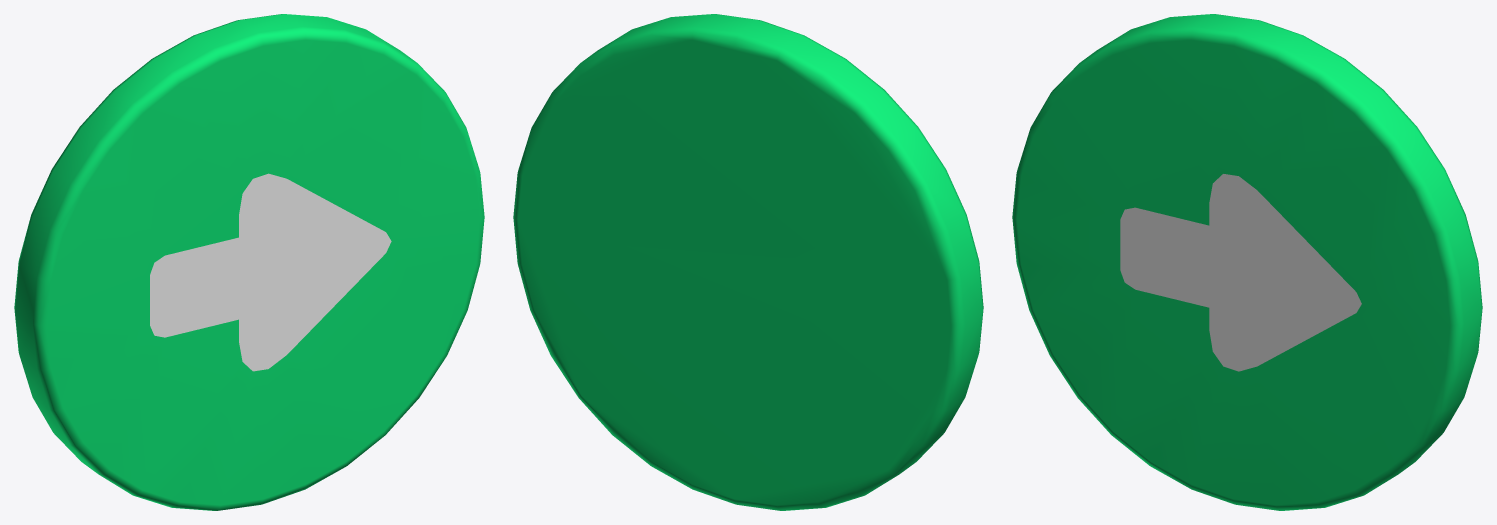
Rendered from mbx-guidense_arrow-right_green.glb.
3 views of the same model, side by side, from view 1: azimuth 30°, elevation 25°; view 2: azimuth 150°, elevation 25°; view 3: azimuth 330°, elevation 25° (orthographic).
Visible parts, largest first — view 1: mbx-guidense_arrow-right_green; view 2: mbx-guidense_arrow-right_green; view 3: mbx-guidense_arrow-right_green.
Boxes of the visible parts, x1,y1,x2,y2 form: mbx-guidense_arrow-right_green: [14, 14, 484, 510]; mbx-guidense_arrow-right_green: [513, 14, 983, 510]; mbx-guidense_arrow-right_green: [1012, 14, 1482, 510].
Size of the model in its own units: 1.5 by 1.5 by 0.16.
